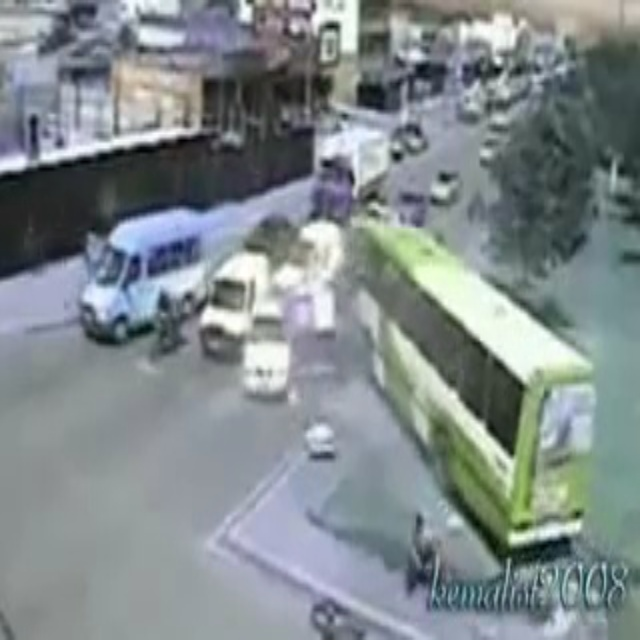acc: (267, 210, 437, 355)
